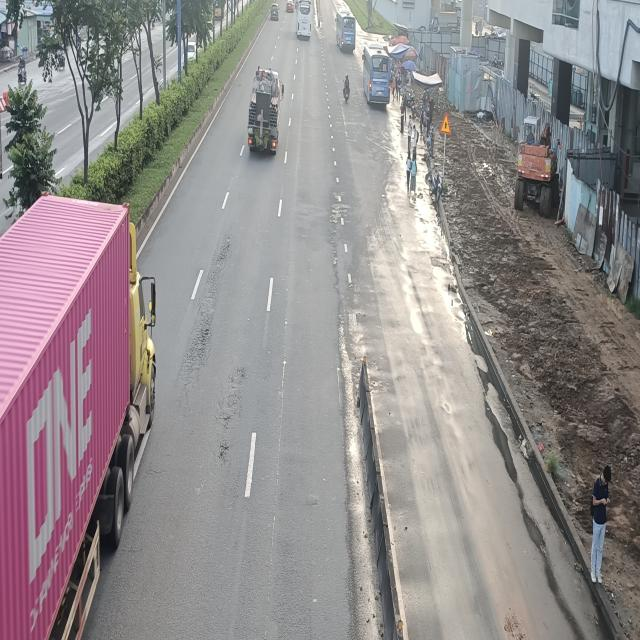coach: (360, 40, 391, 106), (336, 3, 356, 50), (298, 0, 312, 39)
container: (0, 201, 153, 640)
truck: (249, 70, 285, 156)
